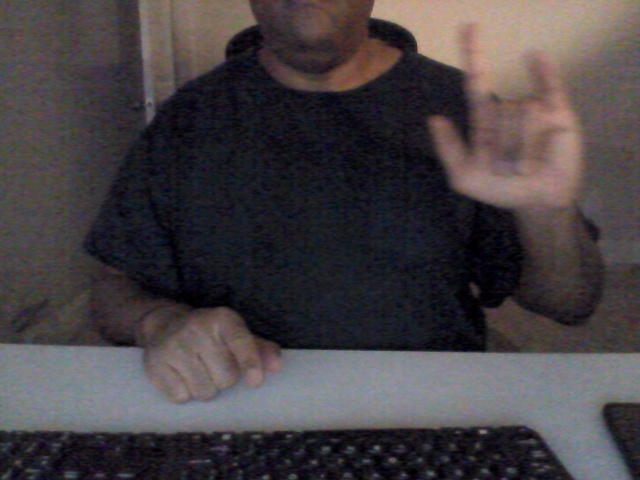i_love_you: (423, 21, 591, 207)
